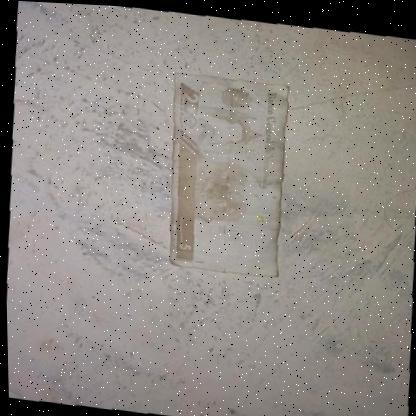five-back-vef: (156, 68, 294, 278)
